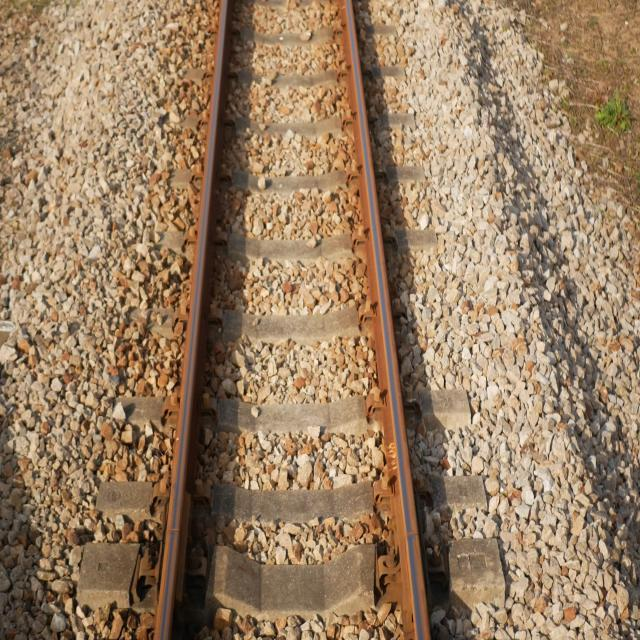Plant: (596, 98, 631, 130)
